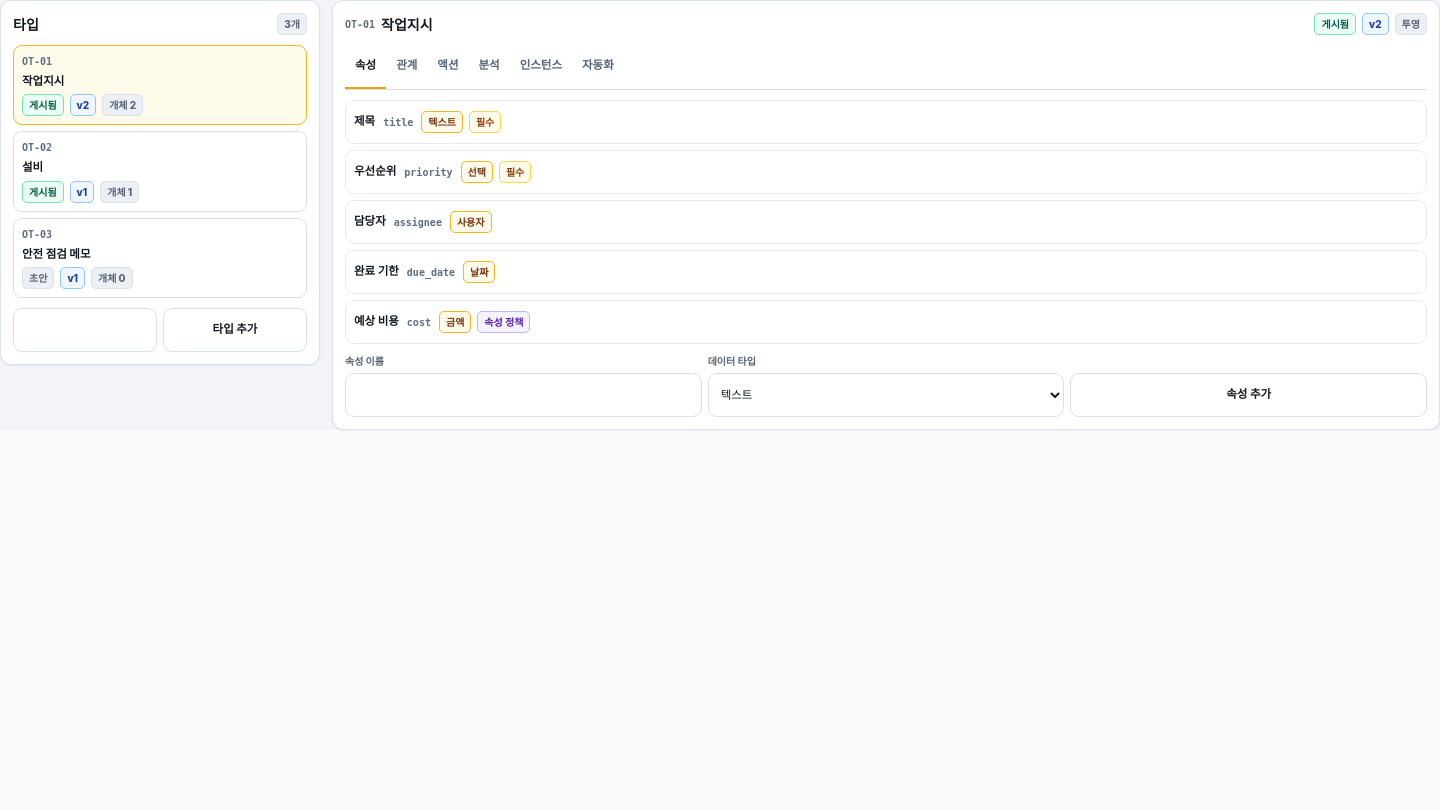
Test: OntologyManagerScreen (design change-log 63) › opens an instance row as the right pin ObjectCard (§4.7-3)
The image size is (1440, 810).
Click the tab "인스턴스".
click(541, 67)  # box [510, 45, 572, 89]
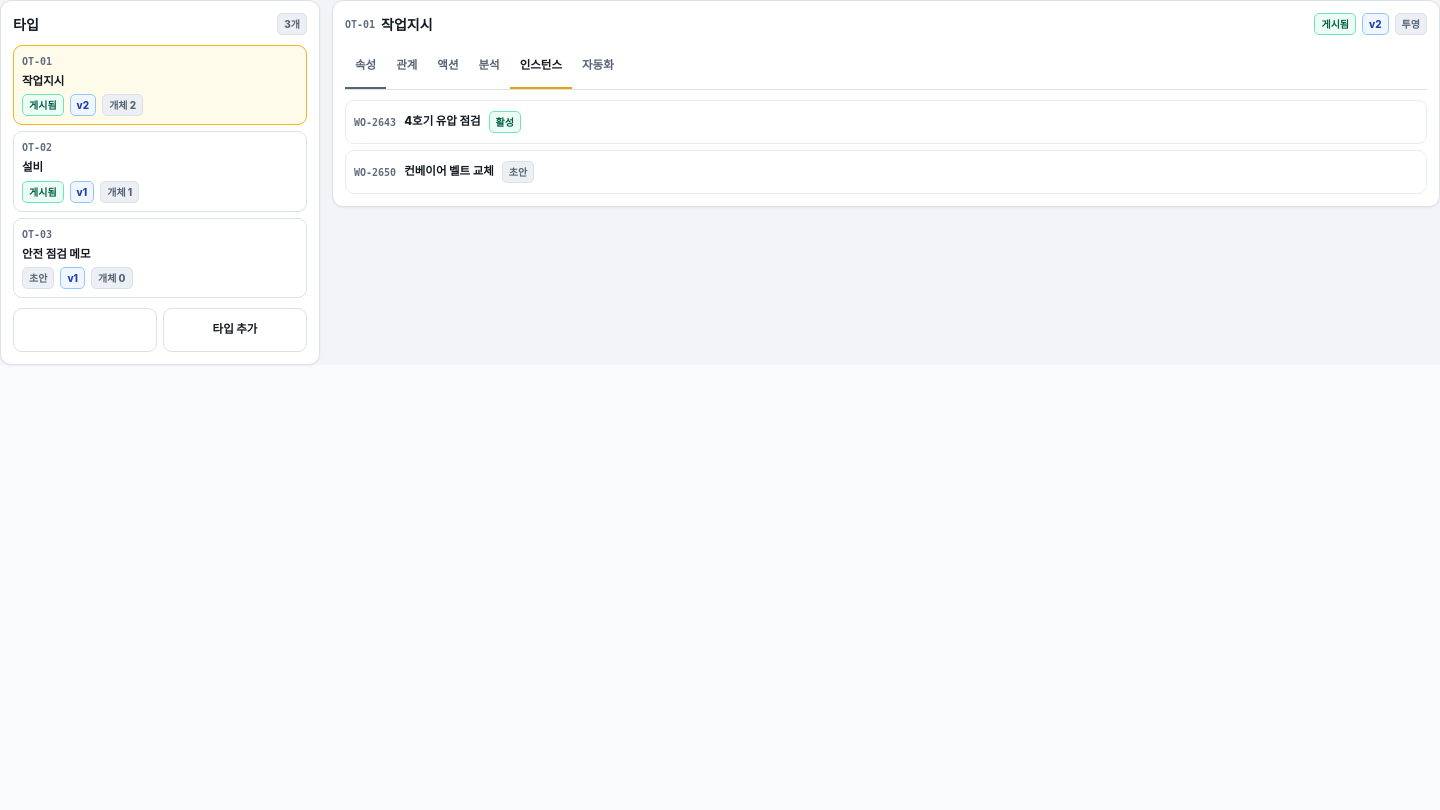
Click the button with aria-label "WO-2643 개체 카드 열기".
click(375, 122)  # box [345, 100, 1427, 144]
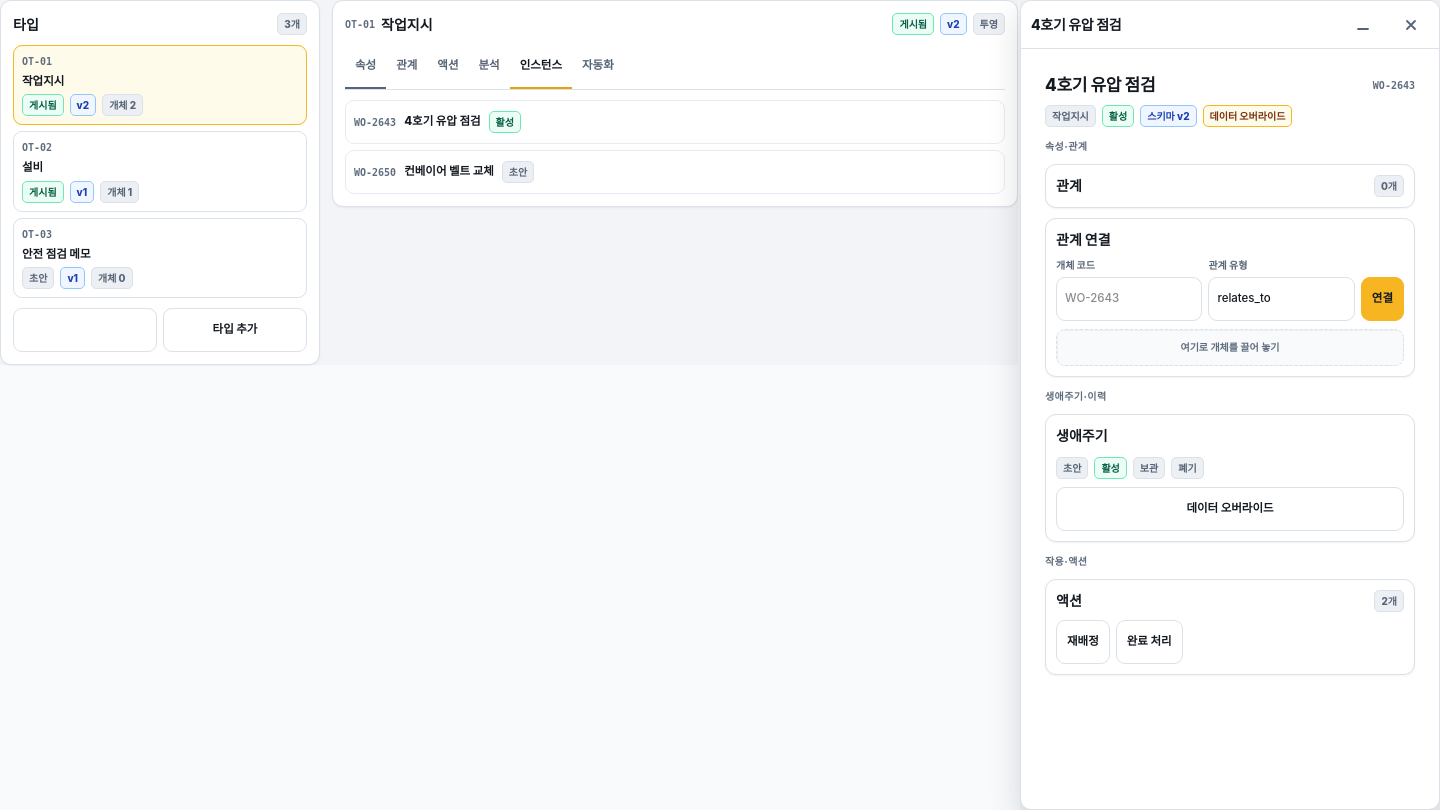
Expected: the element "4호기 유압 점검" is shown, [1020, 0, 1439, 809]
Expected: the 1st text "WO-2643" is shown, [1373, 78, 1415, 93]
